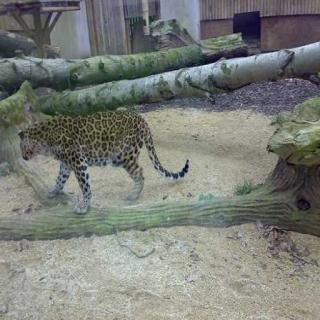Leopard: (16, 95, 190, 218)
